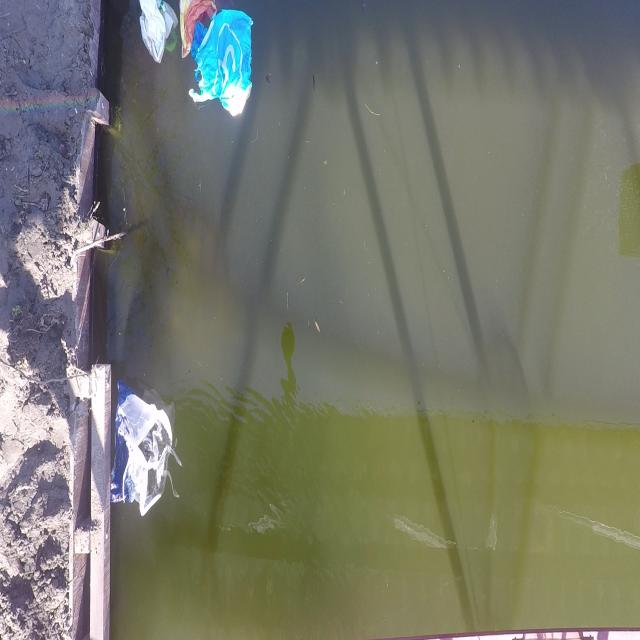Sac plastique: (186, 2, 268, 132), (111, 378, 184, 522), (177, 0, 220, 84), (132, 0, 180, 67)
